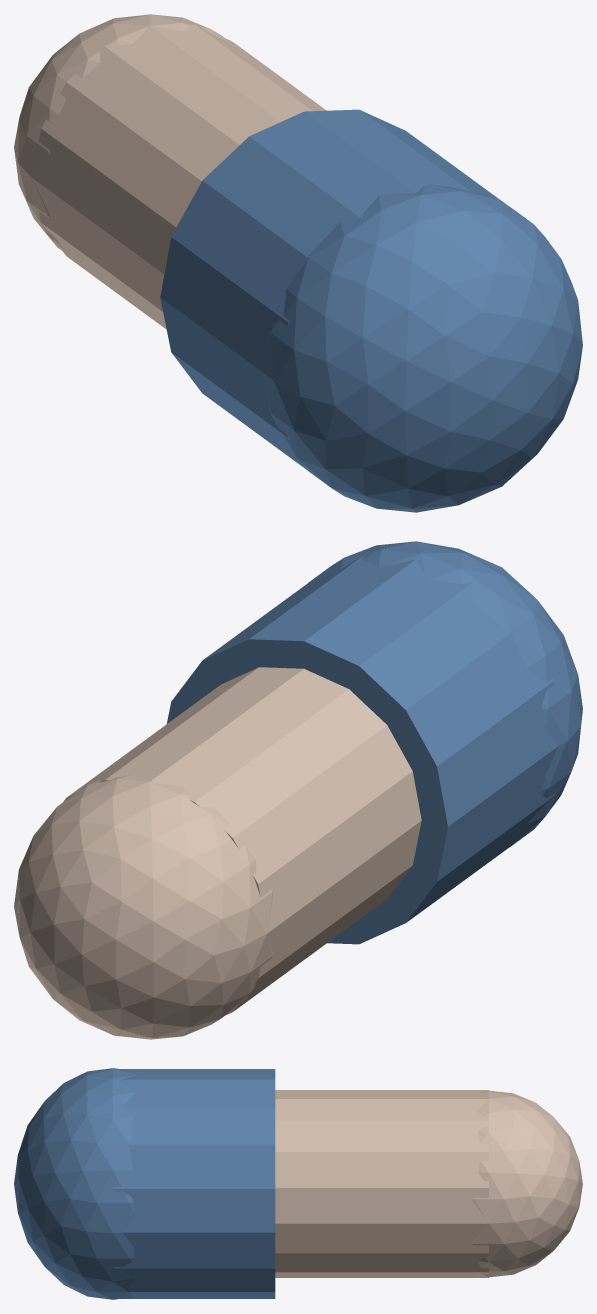
Rendered from windman_left_upper_arm.glb.
3 views of the same model, one above another, from view 1: azimuth 30°, elevation 25°; view 2: azimuth 150°, elevation 25°; view 3: azimuth 270°, elevation 25° (orthographic). The views are drawn at different scales.
Parts seen in each view (by area): view 1: geometry_0; view 2: geometry_0; view 3: geometry_0.
Boxes of the visible parts, x1,y1,x2,y2 form: geometry_0: [14, 14, 582, 512]; geometry_0: [14, 541, 582, 1039]; geometry_0: [14, 1068, 582, 1299].
Size of the model in its own units: 0.144 by 0.144 by 0.3512.
